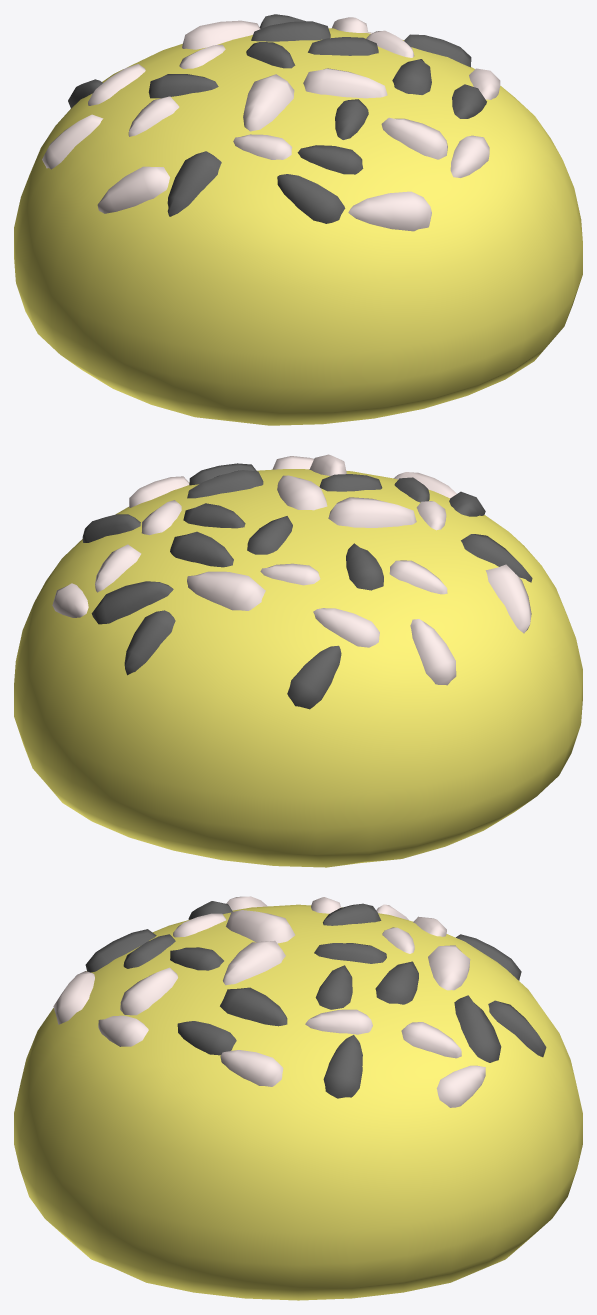
The model's file is Bread_1.fbx.
3 renders of one model, top to bottom at view 1: azimuth 30°, elevation 25°; view 2: azimuth 150°, elevation 25°; view 3: azimuth 270°, elevation 25°, orthographic.
Visible parts, largest first — view 1: Bread_1; view 2: Bread_1; view 3: Bread_1.
Part boxes in pixels (x1=…): Bread_1: x1=14, y1=14, x2=582, y2=425; Bread_1: x1=14, y1=454, x2=582, y2=867; Bread_1: x1=14, y1=896, x2=582, y2=1300.
Bounding box in the file's own units: 33 × 17.01 × 33.
